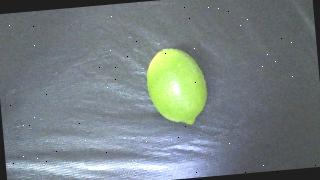LOCAL: (145, 46, 210, 128)
